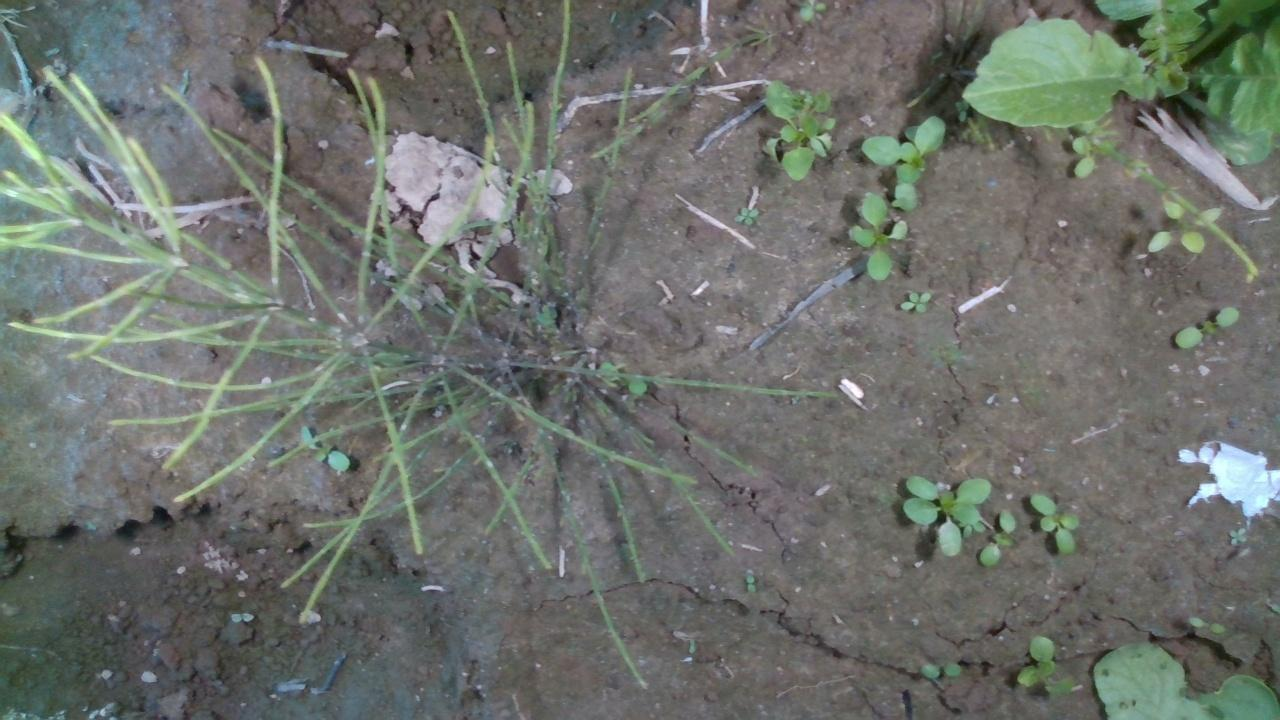weed: (1028, 491, 1080, 553), (1172, 305, 1239, 349), (895, 290, 931, 314), (917, 660, 961, 678), (731, 203, 758, 225), (1226, 524, 1246, 544)
